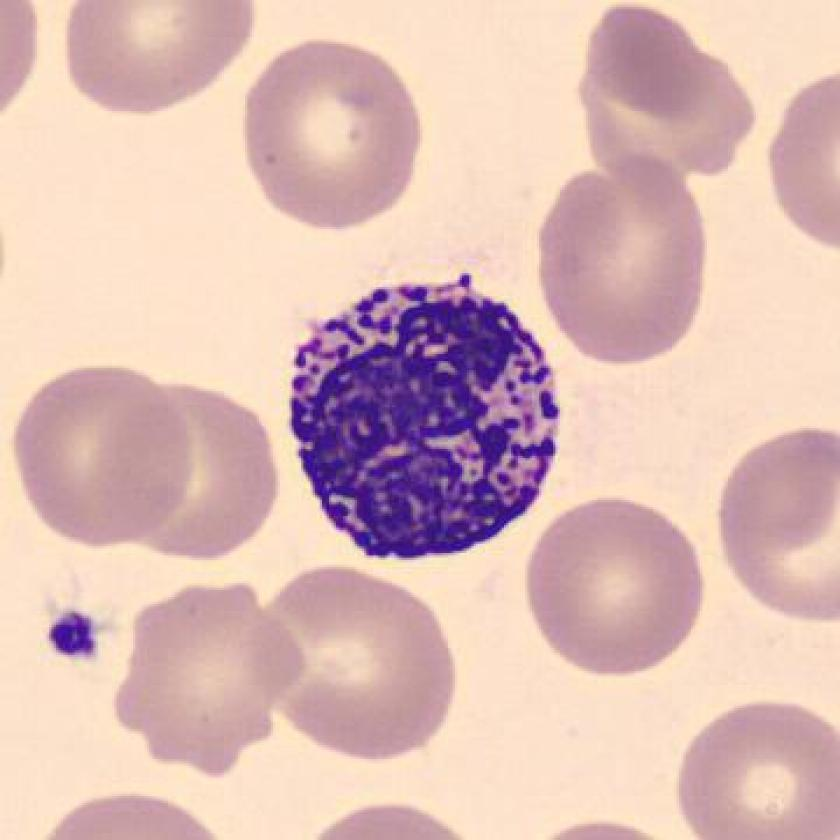basophil: (279, 262, 573, 575)
